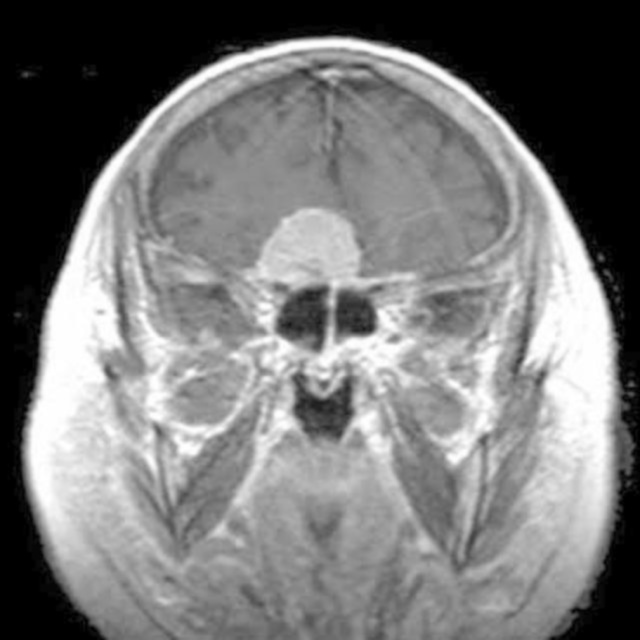meningioma tumor: (239, 188, 387, 296)
